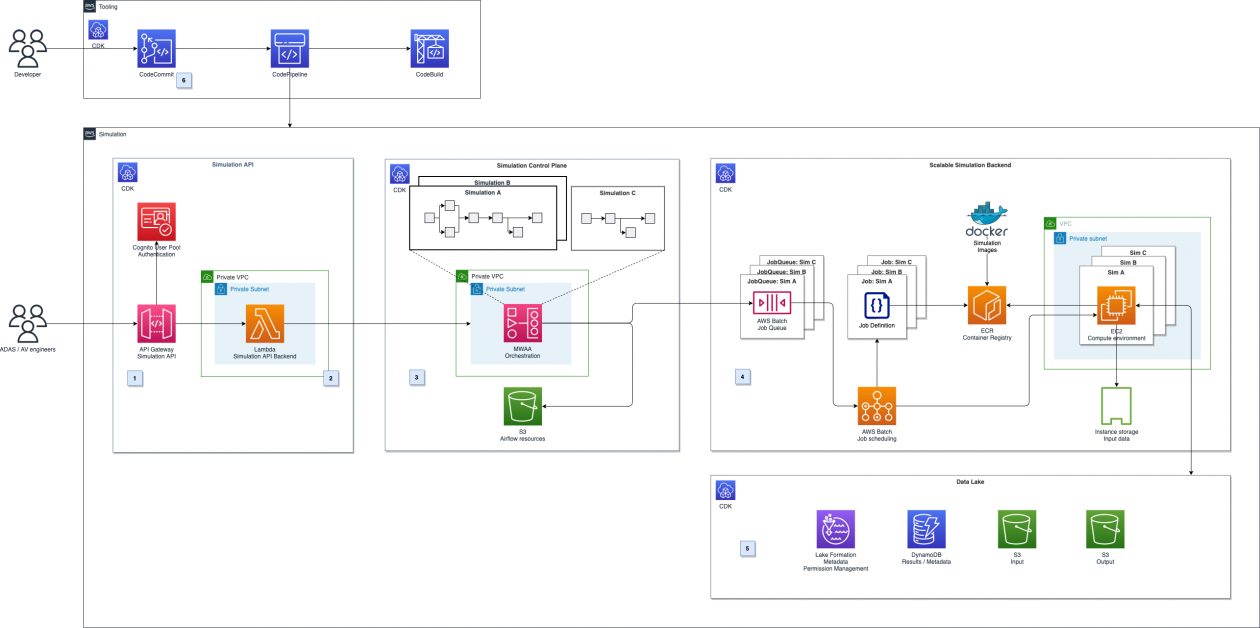api gateway: (140, 306, 176, 343)
batch: (858, 389, 896, 424)
cdk: (714, 480, 735, 500), (88, 18, 109, 38), (117, 163, 138, 183), (716, 163, 736, 183)
codebuild: (412, 32, 447, 68)
codecommit: (139, 32, 175, 65)
codepipeline: (271, 30, 309, 67)
dynamodb: (911, 512, 945, 543)
ec2: (1099, 287, 1136, 325)
ecr: (967, 289, 1007, 324)
iam: (138, 202, 177, 240)
lambda: (247, 304, 285, 345)
s3: (1087, 511, 1126, 546), (503, 388, 542, 423), (999, 511, 1038, 546)
